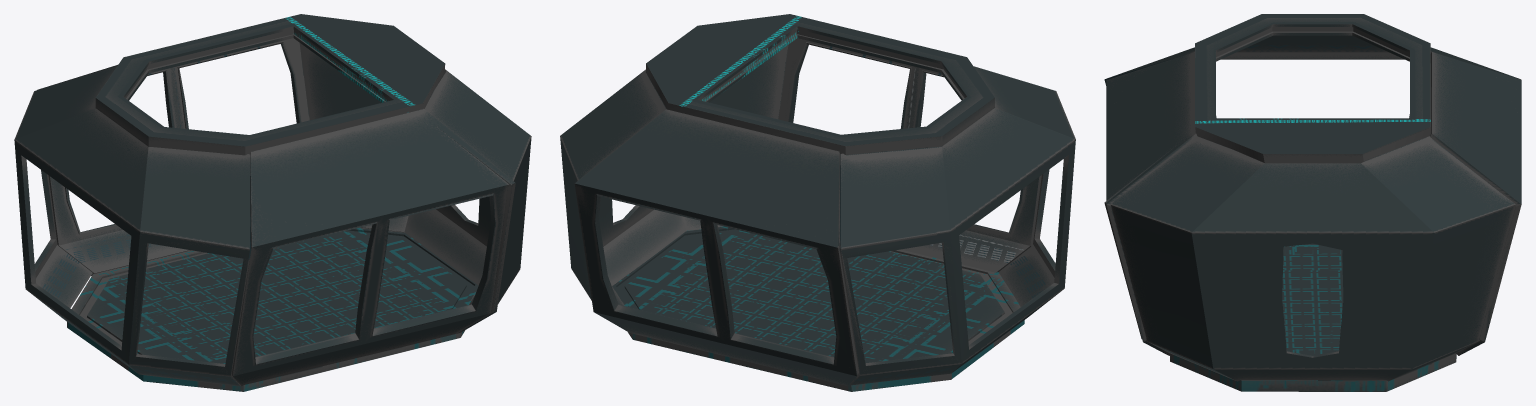
The model's file is Cage.fbx.
3 renders of one model, left to right at view 1: azimuth 30°, elevation 25°; view 2: azimuth 150°, elevation 25°; view 3: azimuth 270°, elevation 25°, orthographic. The views are drawn at different scales.
Visible parts, largest first — view 1: Cage; view 2: Cage; view 3: Cage.
Boxes of the visible parts, <box> form: Cage: <box>14,14,531,391</box>; Cage: <box>560,14,1075,391</box>; Cage: <box>1104,14,1521,391</box>.
Bounding box in the file's own units: 4794 × 2719 × 4574.
